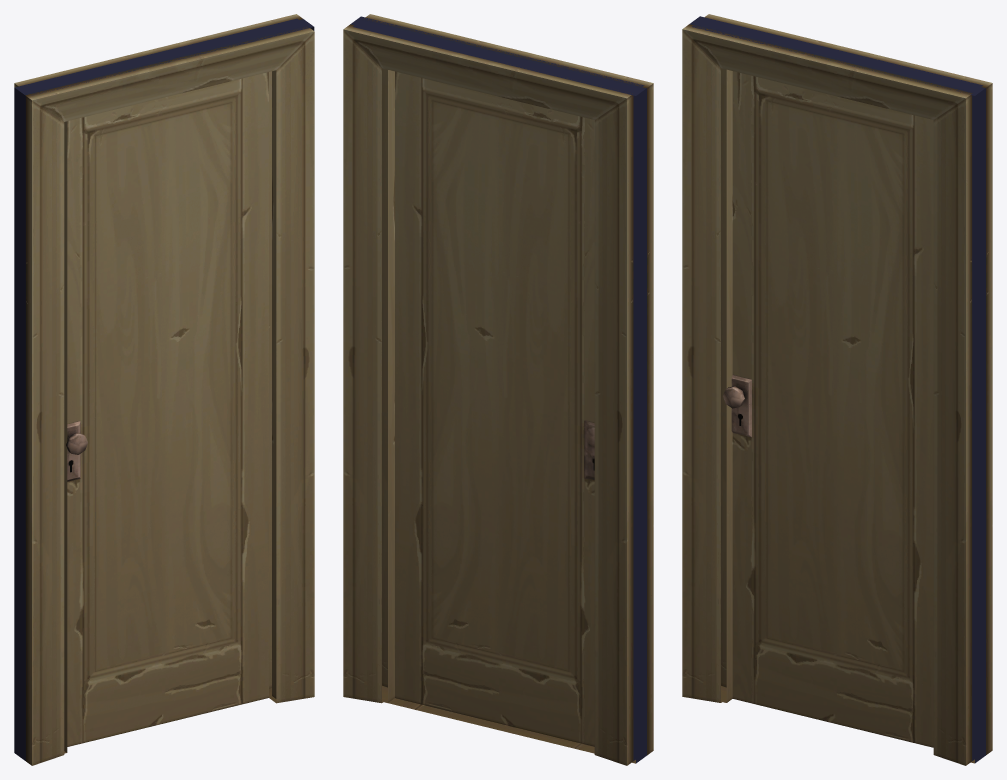
File: puerta.fbx
The picture shows the model from 3 angles, left to right: view 1: azimuth 30°, elevation 25°; view 2: azimuth 150°, elevation 25°; view 3: azimuth 330°, elevation 25°; orthographic projection.
Visible parts, largest first — view 1: s4studio_mesh_1.002, s4studio_mesh_1.001; view 2: s4studio_mesh_1.002, s4studio_mesh_1.001; view 3: s4studio_mesh_1.002, s4studio_mesh_1.001.
Part boxes in pixels (<box>): s4studio_mesh_1.002: <box>14,18,314,765</box>; s4studio_mesh_1.001: <box>14,14,314,753</box>; s4studio_mesh_1.002: <box>353,14,653,763</box>; s4studio_mesh_1.001: <box>343,16,644,765</box>; s4studio_mesh_1.002: <box>682,16,983,765</box>; s4studio_mesh_1.001: <box>692,14,992,763</box>.
Bounding box in the file's own units: 102 × 225 × 13.73.
Materials: 2 (2 with a texture image).
